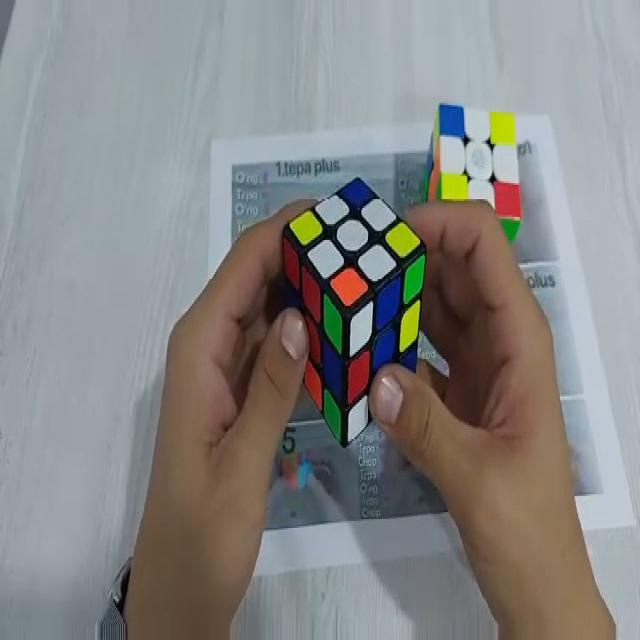Rub: (284, 172, 426, 450), (427, 103, 521, 241)
